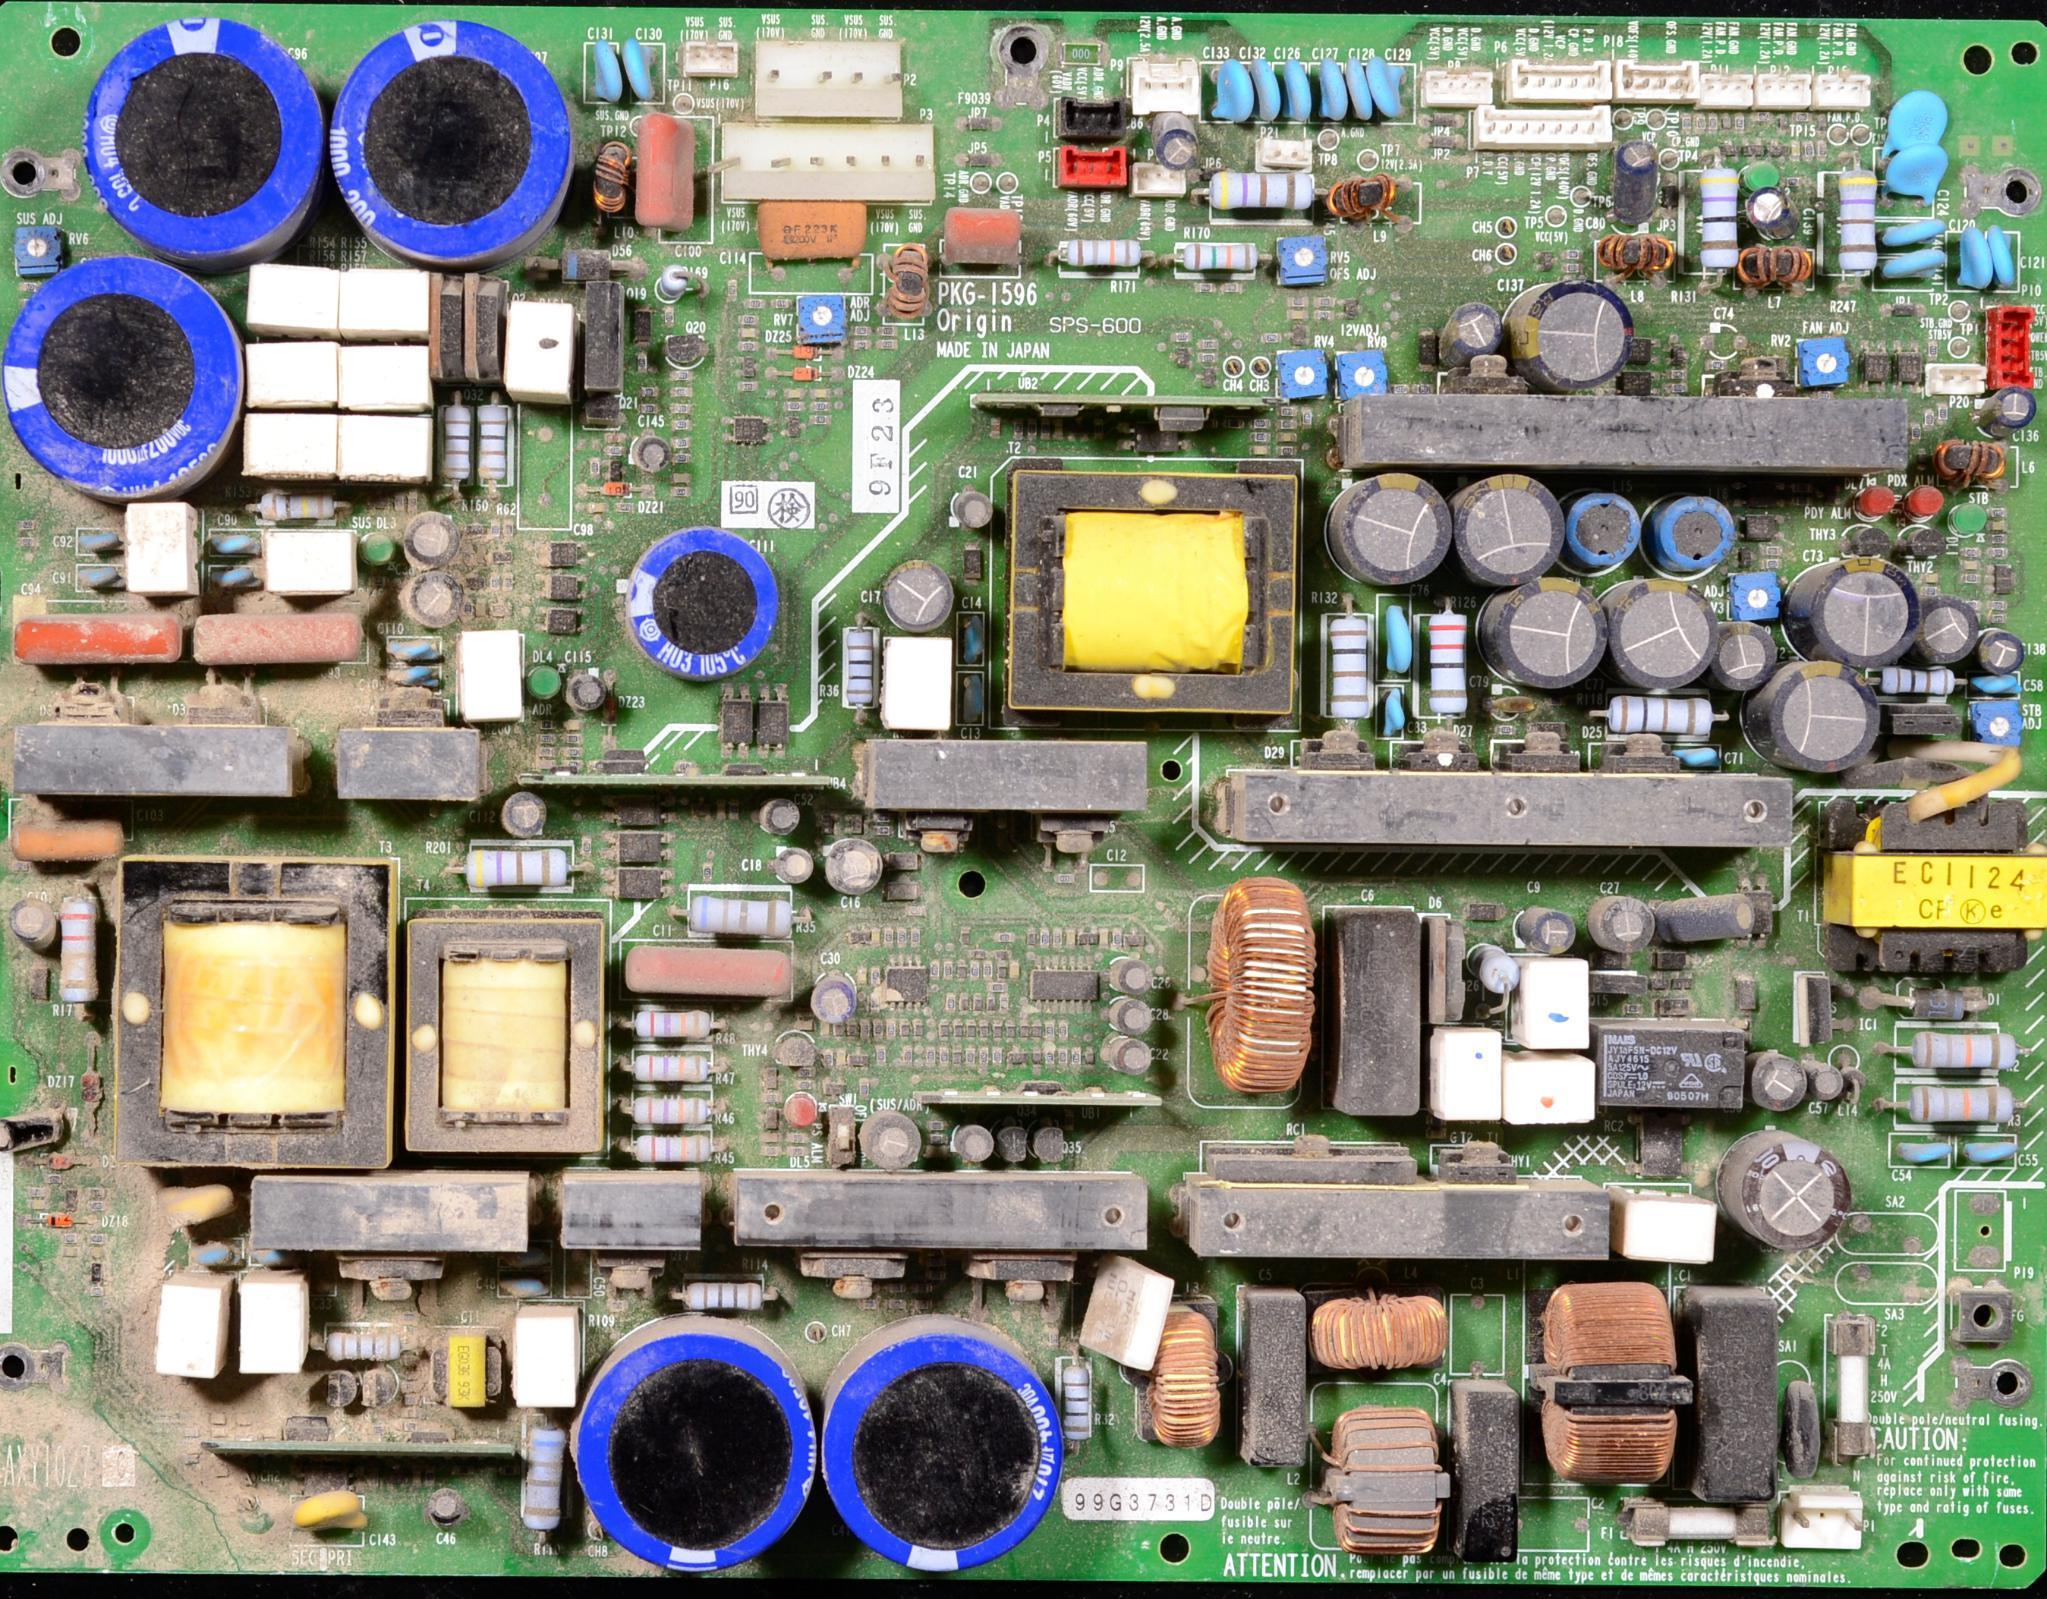Capacitor Jumper: (1738, 1134, 1849, 1262), (1451, 469, 1563, 588), (1333, 480, 1452, 578), (1514, 291, 1625, 396), (1499, 578, 1603, 690), (17, 613, 189, 680), (191, 608, 372, 672), (1806, 558, 1906, 667), (1607, 585, 1715, 685), (1776, 660, 1878, 763), (635, 111, 709, 248), (754, 198, 866, 281), (7, 819, 118, 878), (1917, 598, 1989, 675), (935, 208, 1023, 269), (1706, 620, 1775, 691), (1668, 893, 1756, 946), (886, 565, 949, 633), (400, 567, 470, 628), (1879, 145, 1947, 203), (1755, 1050, 1811, 1119), (160, 1182, 233, 1232), (291, 1493, 371, 1537), (1617, 143, 1667, 214), (861, 1117, 924, 1172), (1362, 53, 1412, 121), (1886, 93, 1949, 146), (1381, 597, 1421, 680), (1592, 901, 1655, 952), (1341, 58, 1386, 130), (1150, 108, 1205, 166), (404, 519, 462, 573), (826, 843, 887, 894), (620, 38, 665, 106), (582, 37, 625, 103), (1211, 57, 1253, 125), (1878, 216, 1952, 253), (1522, 908, 1578, 956), (1745, 191, 1804, 236), (1881, 248, 1947, 288), (1248, 58, 1286, 125), (502, 793, 553, 841), (8, 898, 58, 946), (1982, 387, 2034, 434), (1281, 58, 1316, 126), (1891, 1139, 1962, 1172), (1961, 229, 1997, 294), (1449, 304, 1499, 351), (76, 560, 135, 600), (389, 630, 442, 672), (385, 662, 459, 691), (1318, 63, 1351, 128), (568, 672, 611, 720), (1991, 228, 2020, 296), (1982, 628, 2025, 673), (1113, 1032, 1150, 1084), (1971, 668, 2027, 701), (1113, 992, 1156, 1034), (631, 434, 671, 479), (203, 567, 263, 597), (1962, 1137, 2019, 1168), (769, 790, 804, 839), (204, 529, 254, 562), (817, 982, 854, 1027), (189, 1237, 241, 1268), (954, 487, 989, 532), (1381, 681, 1407, 740), (955, 1124, 995, 1160), (70, 530, 125, 557), (427, 1488, 464, 1524), (528, 663, 563, 700), (1113, 959, 1151, 991), (1673, 743, 1721, 766), (1814, 1060, 1843, 1099), (243, 1248, 286, 1272)
Resistor Jumper: (625, 946, 796, 1004), (1883, 1027, 2025, 1077), (1896, 1075, 2019, 1125), (1422, 607, 1474, 721), (522, 1419, 567, 1541), (1608, 690, 1720, 738), (462, 844, 572, 893), (1833, 171, 1883, 274), (1695, 168, 1743, 273), (56, 893, 100, 1006), (688, 893, 808, 931), (1211, 171, 1319, 209), (626, 1037, 714, 1084), (626, 1130, 724, 1170), (628, 1085, 711, 1130), (477, 402, 518, 490), (1057, 1360, 1098, 1444), (1470, 942, 1532, 999), (258, 489, 342, 525), (440, 402, 475, 490), (626, 1007, 718, 1037), (1883, 667, 1956, 701), (685, 1282, 764, 1313), (321, 1335, 400, 1366), (1063, 238, 1141, 268), (1180, 243, 1263, 269), (656, 266, 691, 294)
